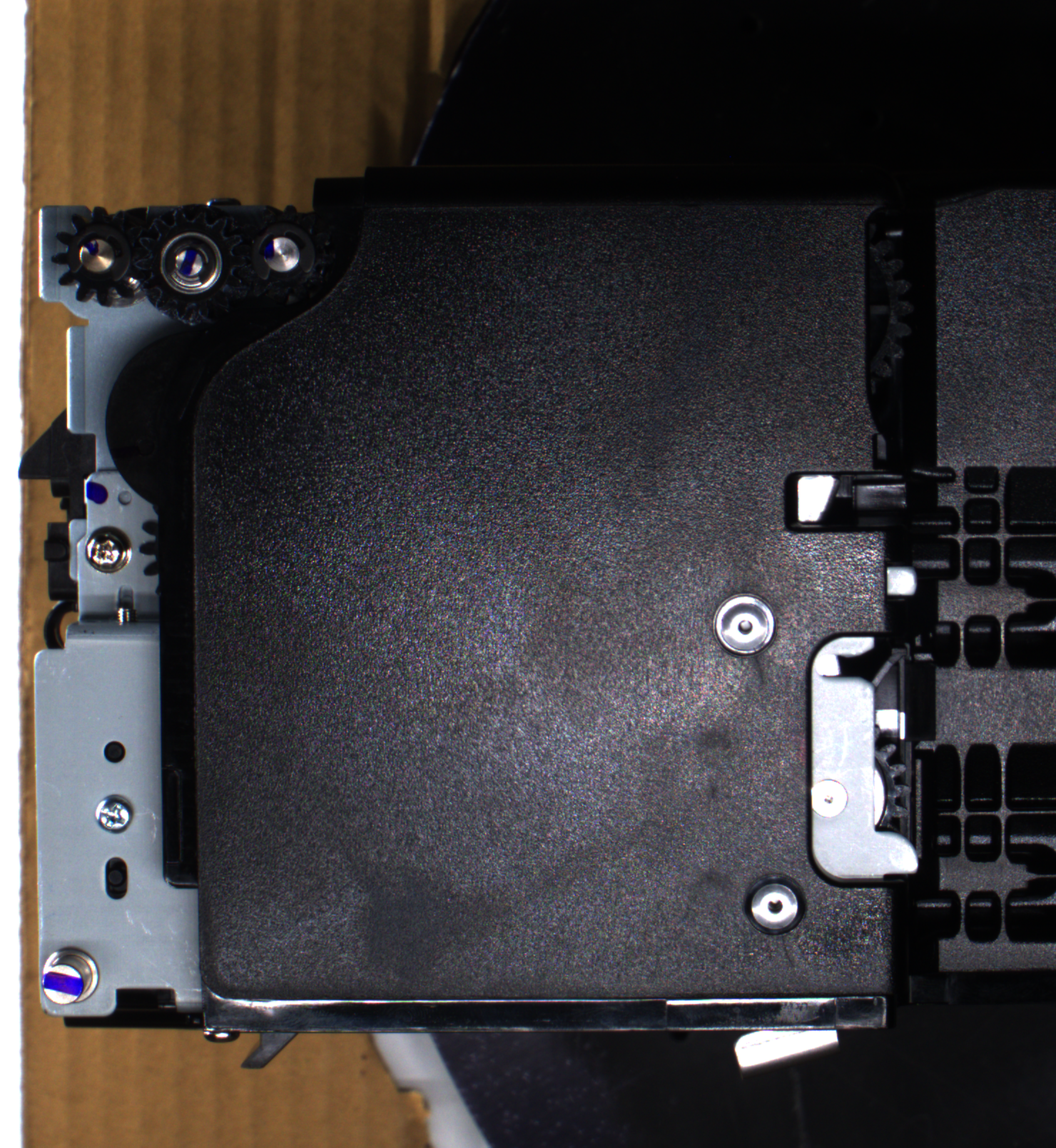centre_pin_presence: (726, 1013, 844, 1079)
centre_plate_presence: (801, 626, 929, 891)
centre_screw_presence: (709, 586, 782, 663), (737, 866, 810, 939)
gear1_presence: (50, 205, 151, 309)
gear2_presence: (135, 204, 249, 326)
gear3_presence: (232, 204, 333, 305)
side_screw_presence: (82, 523, 134, 575), (91, 791, 136, 835)
slanting_pin_presence: (38, 942, 108, 1012)
